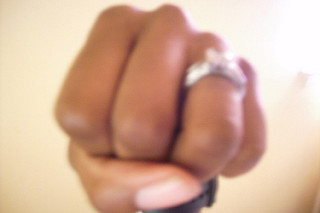fist: (59, 13, 271, 192)
